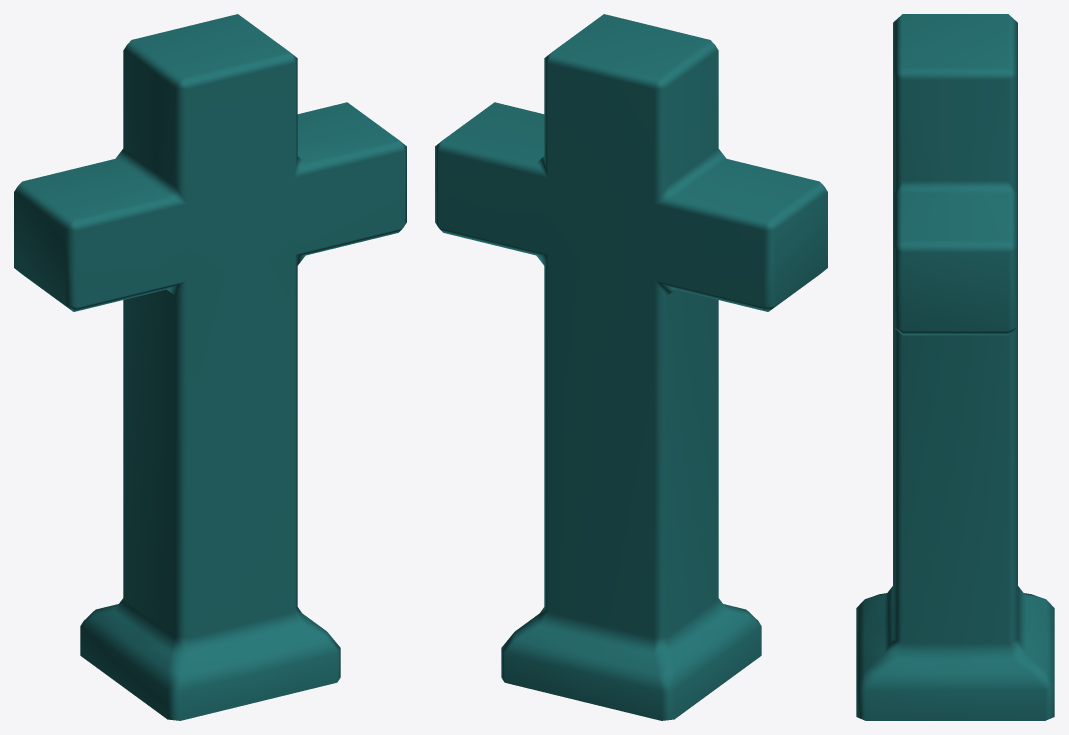
The model's file is SM_Grave_Cross.fbx.
The picture shows the model from 3 angles, left to right: view 1: azimuth 30°, elevation 25°; view 2: azimuth 150°, elevation 25°; view 3: azimuth 270°, elevation 25°; orthographic projection. The views are drawn at different scales.
Parts seen in each view (by area): view 1: Object034; view 2: Object034; view 3: Object034.
Part boxes in pixels (x1=…): Object034: x1=14, y1=14, x2=406, y2=720; Object034: x1=435, y1=14, x2=827, y2=720; Object034: x1=856, y1=14, x2=1054, y2=720.
Bounding box in the file's own units: 64.82 × 113 × 31.81.
